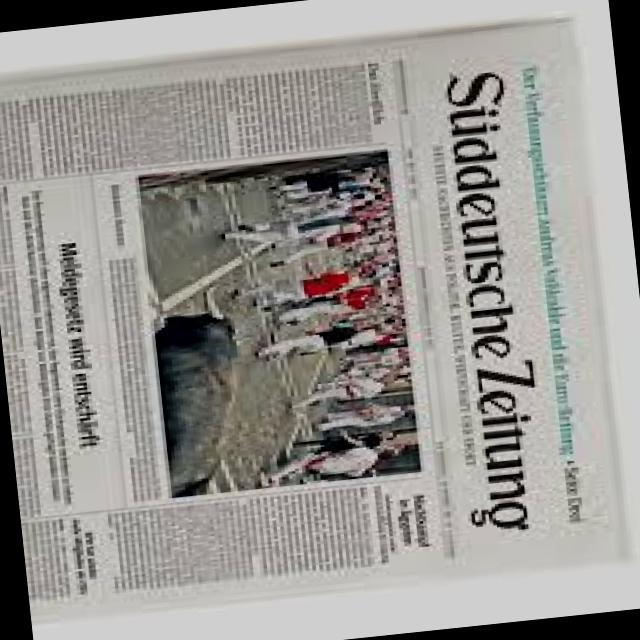paper: (0, 10, 629, 625)
